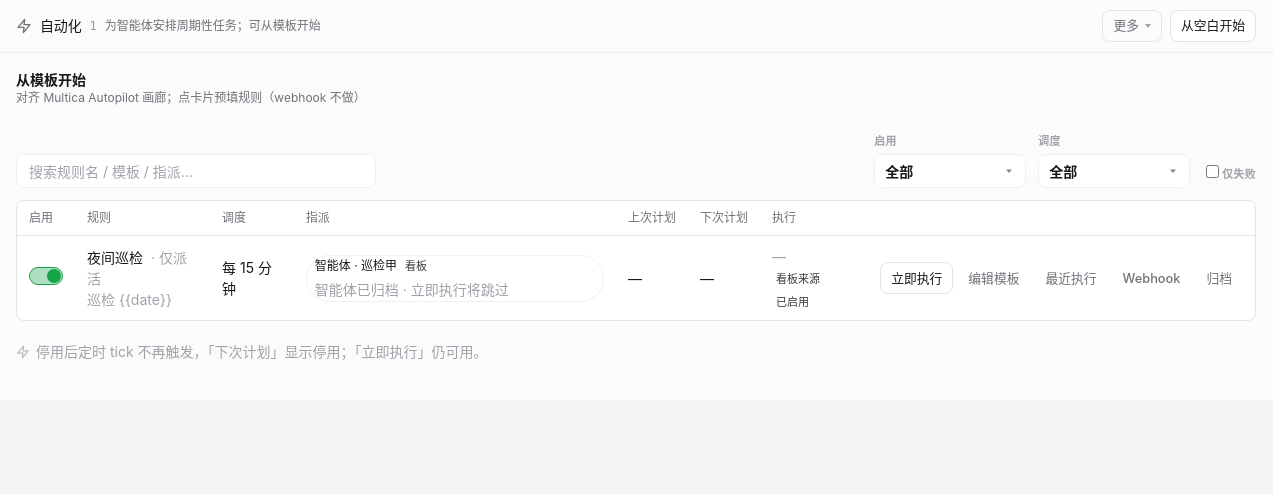
Test case: AutomationPage run-now outcomes › marks an archived run_only target and presents Run Now as a persisted skipped outcome, not a launch
The width and height of the screenshot is (1273, 494).
Expected: the text with test id "automation-archived-target-rule-1" reads "智能体已归档 · 立即执行将跳过", [315,281,509,298]
Click the button with test id "automation-run-now-rule-1" at (917, 278), box [880,262,953,294]
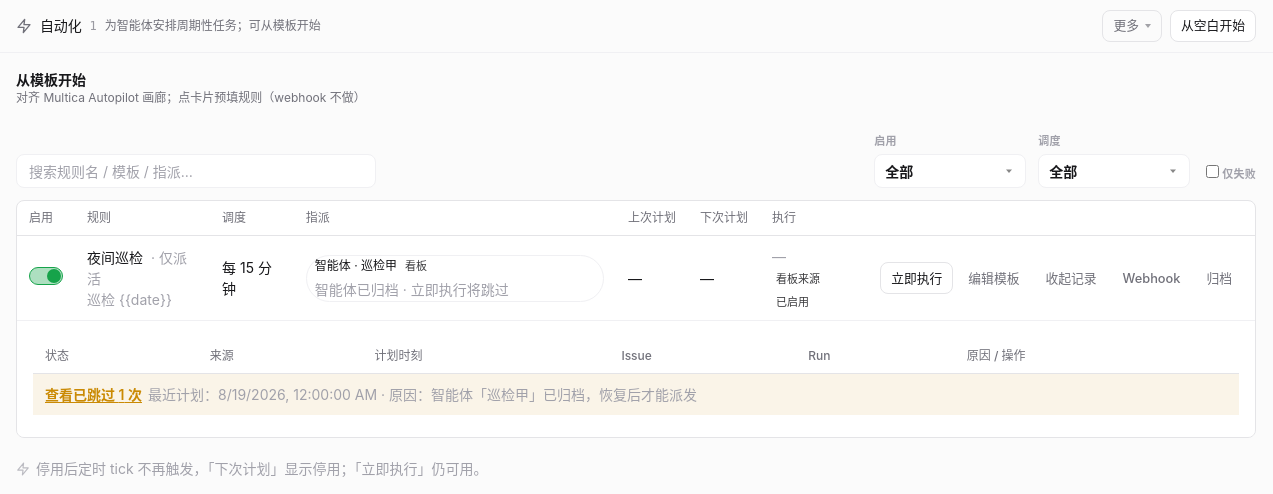
Expected: the element with test id "automation-rule-runs-rule-1" is shown, [29,331,1243,427]
Expected: the text with test id "automation-skipped-summary-rule-1" shows "智能体「巡检甲」已归档，恢复后才能派发", [431,386,697,403]
